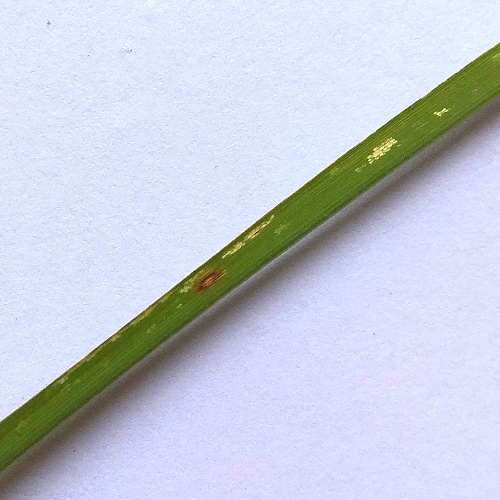Busuk Leher: (189, 260, 231, 294), (361, 132, 403, 166), (239, 211, 280, 243)
